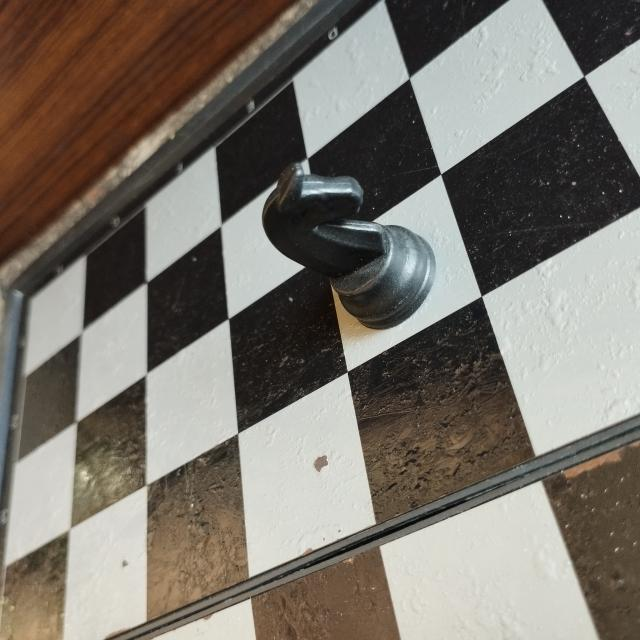Black Knight: (256, 154, 439, 338)
